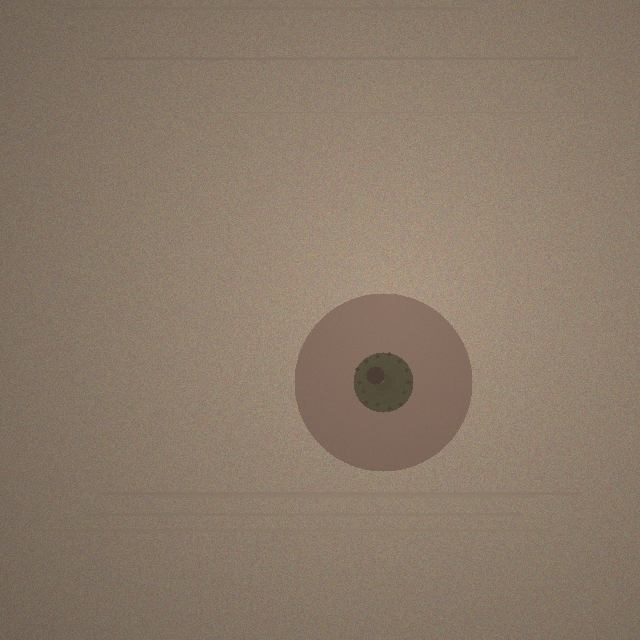cold_weld: (294, 293, 472, 471)
